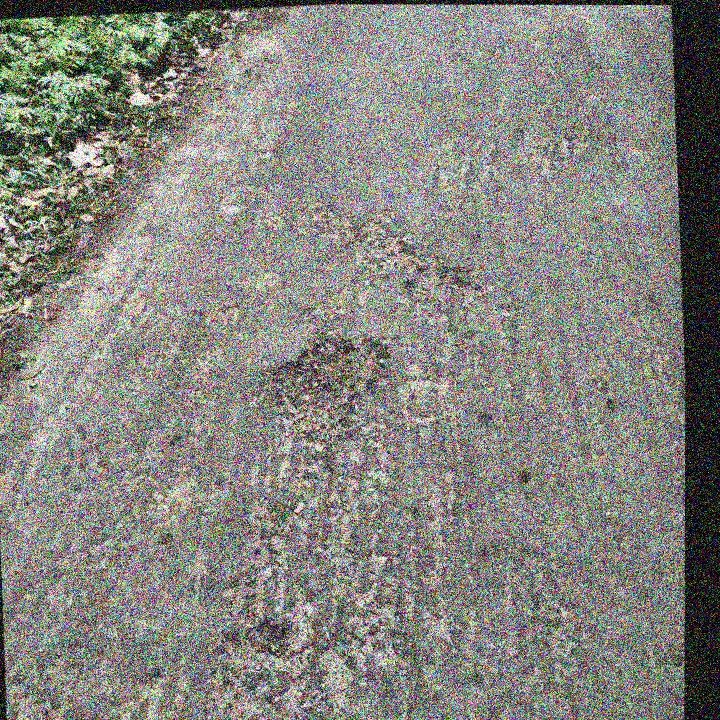pothole: (265, 323, 397, 438), (348, 211, 468, 308), (233, 617, 291, 666)
